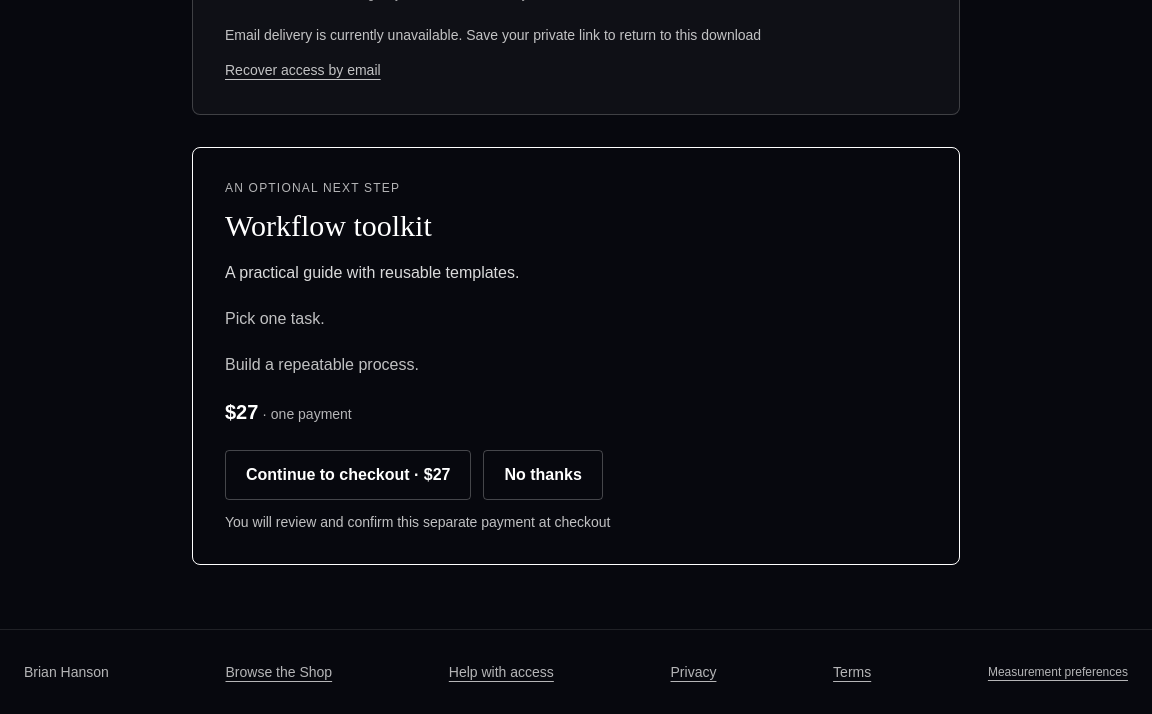
Scenario: offer visitor journey › preserves the existing child access and offers support after a verified expired follow-up
(page scrolled)
Click the button "Continue to checkout · $27": point(348, 474) top-left (225, 450), bottom-right (472, 500)
(page scrolled)
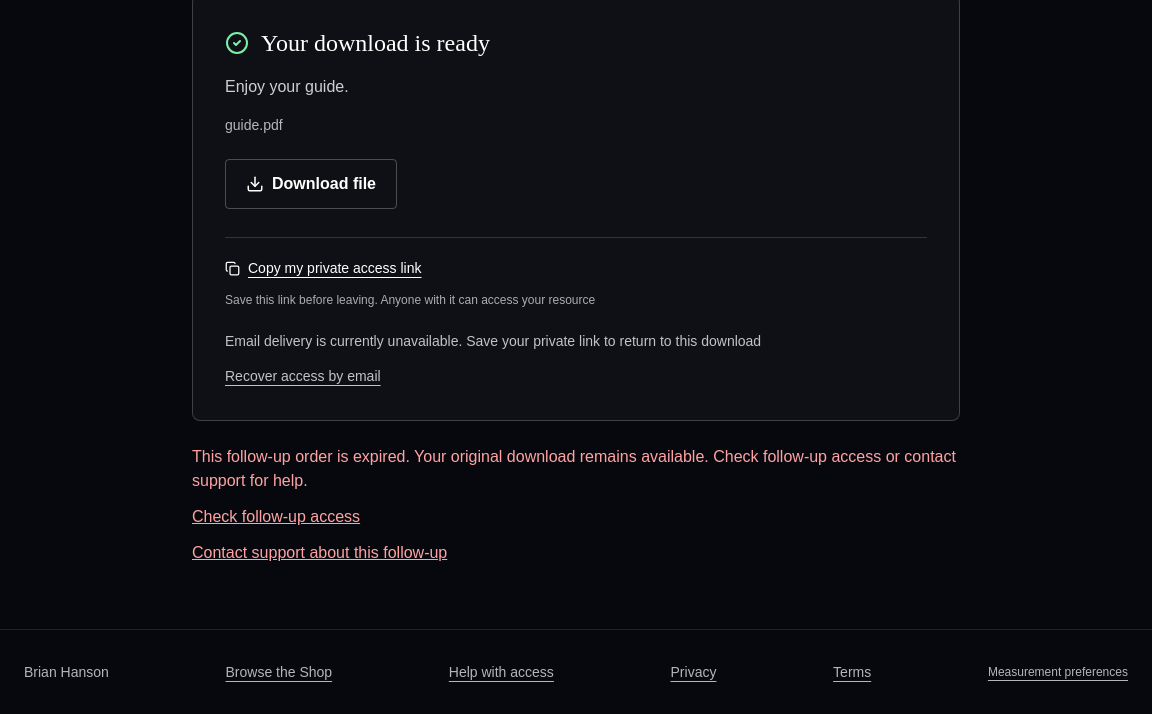
Expected: the button "Download file" is shown, top-left (225, 159), bottom-right (397, 209)
Now the button "Continue to checkout" is gone
